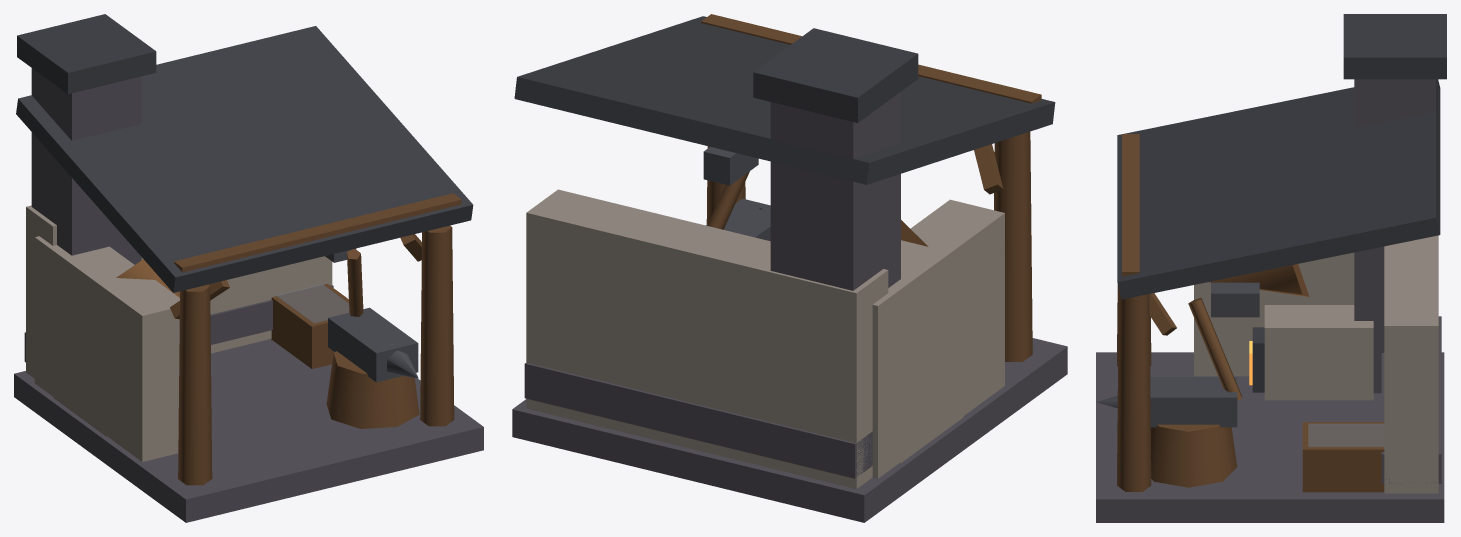
Rendered from building_forge.glb.
3 views of the same model, side by side, from view 1: azimuth 30°, elevation 25°; view 2: azimuth 150°, elevation 25°; view 3: azimuth 270°, elevation 25° (orthographic). The views are drawn at different scales.
Visible parts, largest first — view 1: roof, floor, wall_side, chimney, chimney_cap, post_e, post_w, wall_back, anvil_block, water_trough, anvil_body, roof_beam (+6 smaller); view 2: wall_back, roof, wall_side, floor, chimney, wall_stones, chimney_cap, post_w, roof_beam, hammer_head, anvil_body, post_brace_w (+1 smaller); view 3: roof, floor, wall_back, hearth, chimney_cap, post_e, chimney, wall_side, water_trough, anvil_block, anvil_body, roof_beam (+7 smaller).
Boxes of the visible parts, x1=… form: roof: x1=16, y1=26, x2=473, y2=292; floor: x1=14, y1=339, x2=483, y2=522; wall_side: x1=34, y1=236, x2=179, y2=461; chimney: x1=31, y1=68, x2=141, y2=264; chimney_cap: x1=17, y1=14, x2=156, y2=94; post_e: x1=420, y1=225, x2=454, y2=426; post_w: x1=178, y1=284, x2=212, y2=485; wall_back: x1=26, y1=205, x2=332, y2=378; anvil_block: x1=326, y1=351, x2=419, y2=428; water_trough: x1=271, y1=283, x2=349, y2=368; anvil_body: x1=328, y1=307, x2=418, y2=382; roof_beam: x1=174, y1=193, x2=461, y2=272; wall_back: x1=526, y1=189, x2=888, y2=488; roof: x1=514, y1=16, x2=1055, y2=184; wall_side: x1=872, y1=199, x2=1004, y2=478; floor: x1=512, y1=338, x2=1067, y2=522; chimney: x1=770, y1=92, x2=900, y2=290; wall_stones: x1=524, y1=362, x2=872, y2=478; chimney_cap: x1=753, y1=28, x2=918, y2=122; post_w: x1=994, y1=131, x2=1032, y2=361; roof_beam: x1=701, y1=14, x2=1041, y2=103; hammer_head: x1=703, y1=146, x2=758, y2=185; anvil_body: x1=706, y1=198, x2=770, y2=241; post_brace_w: x1=974, y1=144, x2=1003, y2=194; roof: x1=1117, y1=79, x2=1440, y2=299; floor: x1=1096, y1=352, x2=1444, y2=522; wall_back: x1=1384, y1=235, x2=1438, y2=493; hearth: x1=1264, y1=305, x2=1373, y2=400; chimney_cap: x1=1343, y1=14, x2=1446, y2=79; post_e: x1=1117, y1=290, x2=1151, y2=491; chimney: x1=1354, y1=79, x2=1435, y2=393; wall_side: x1=1194, y1=252, x2=1354, y2=376; water_trough: x1=1302, y1=422, x2=1384, y2=492; anvil_block: x1=1150, y1=424, x2=1237, y2=487; anvil_body: x1=1150, y1=377, x2=1237, y2=427; roof_beam: x1=1122, y1=134, x2=1139, y2=276.
Size of the model in its own units: 0.32 by 0.369 by 0.3225.
